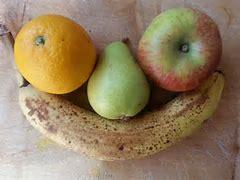apple: (136, 8, 229, 91), (9, 12, 96, 93), (89, 37, 155, 119)
